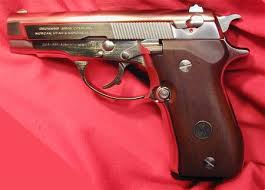gun: (6, 5, 254, 181)
